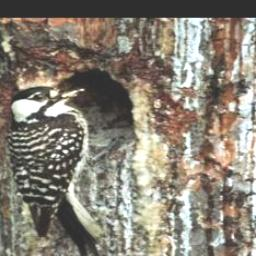Woodpecker: (9, 82, 108, 256)
